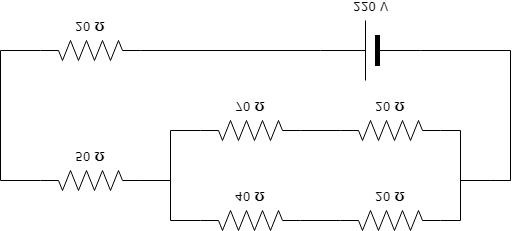Battery: (352, 25, 396, 77)
